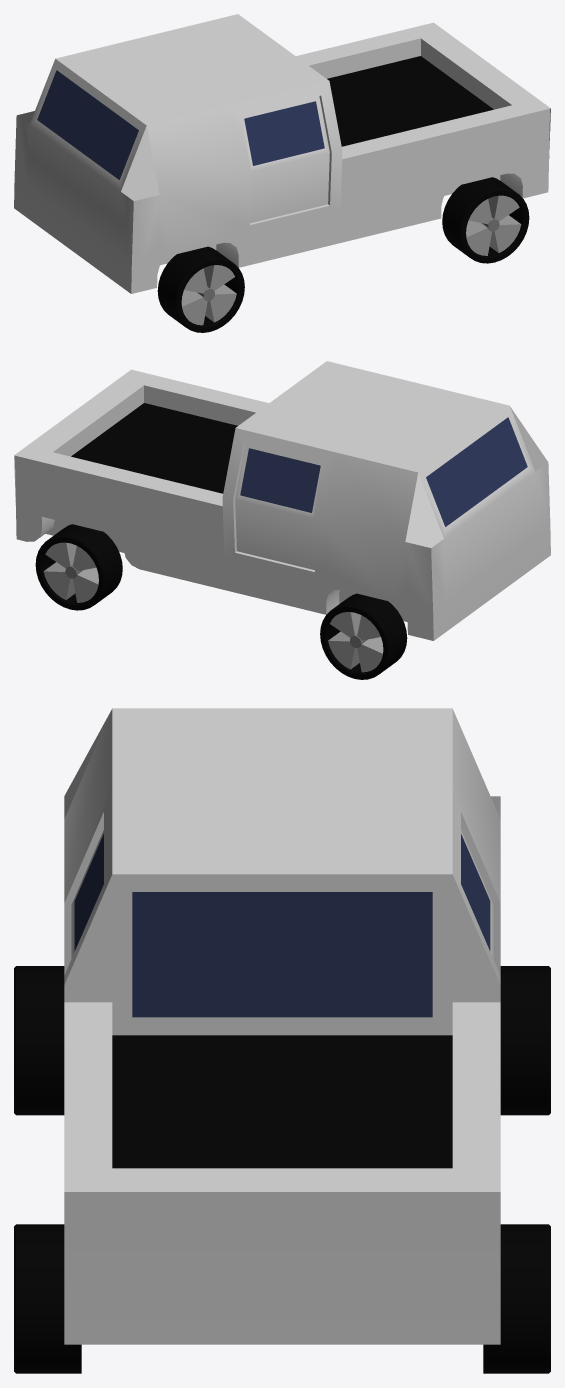
The model's file is Car_Var_2.fbx.
3 renders of one model, top to bottom at view 1: azimuth 30°, elevation 25°; view 2: azimuth 150°, elevation 25°; view 3: azimuth 270°, elevation 25°, orthographic. The views are drawn at different scales.
Visible parts, largest first — view 1: Car_Var_2; view 2: Car_Var_2; view 3: Car_Var_2.
Boxes of the visible parts, left/top/right/bottom form: Car_Var_2: left=14, top=14, right=550, bottom=332; Car_Var_2: left=14, top=361, right=550, bottom=679; Car_Var_2: left=14, top=708, right=550, bottom=1373.
Bounding box in the file's own units: 5.71 × 3.4 × 2.56.
